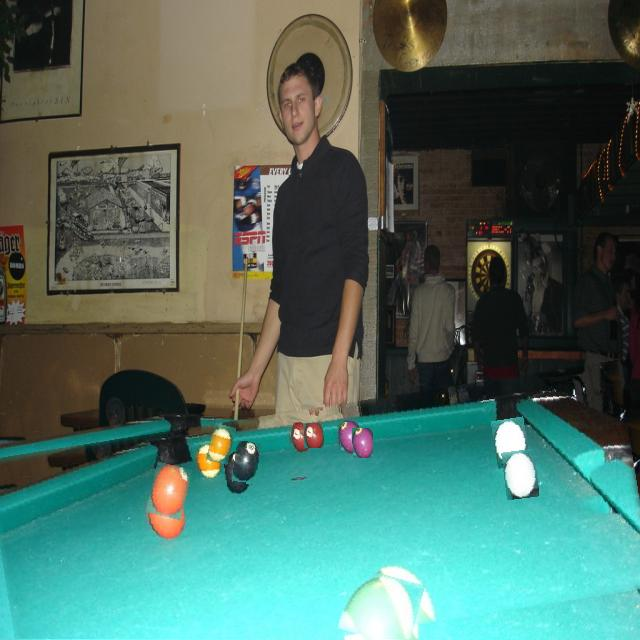Ball: (341, 571, 422, 640), (148, 464, 190, 518), (503, 450, 538, 499), (233, 442, 260, 484), (208, 424, 234, 464), (352, 428, 373, 458), (304, 423, 324, 448)
Billiard table: (0, 384, 640, 640)
